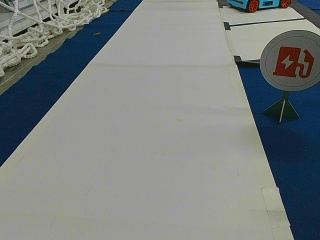battery: (261, 30, 320, 92)
car: (226, 0, 289, 12)
